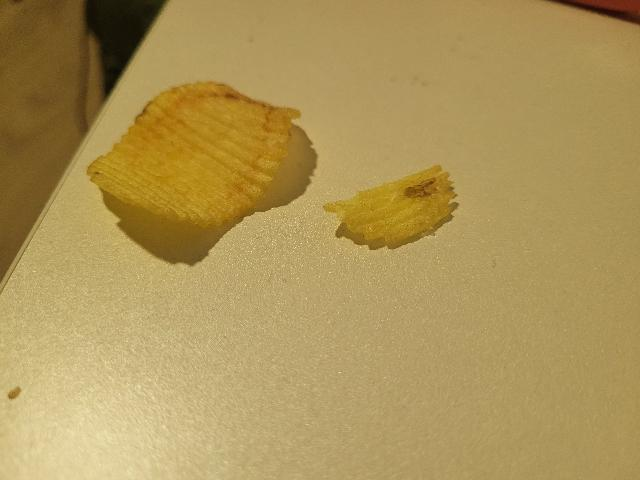Organik: (84, 73, 301, 245), (324, 160, 460, 251)
